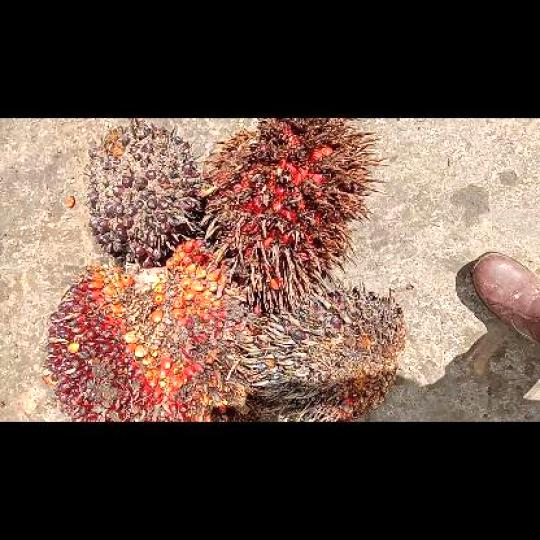kurang masak: (80, 118, 202, 266)
masak: (43, 238, 245, 421)
terlalu masak: (204, 118, 385, 303)
